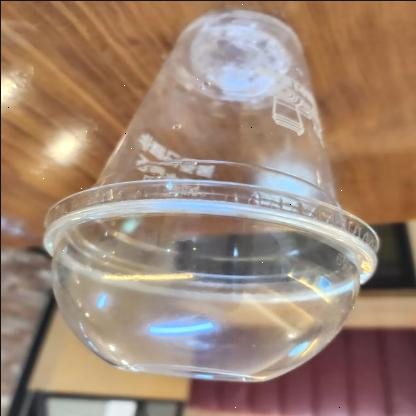Others: (44, 9, 380, 381)
